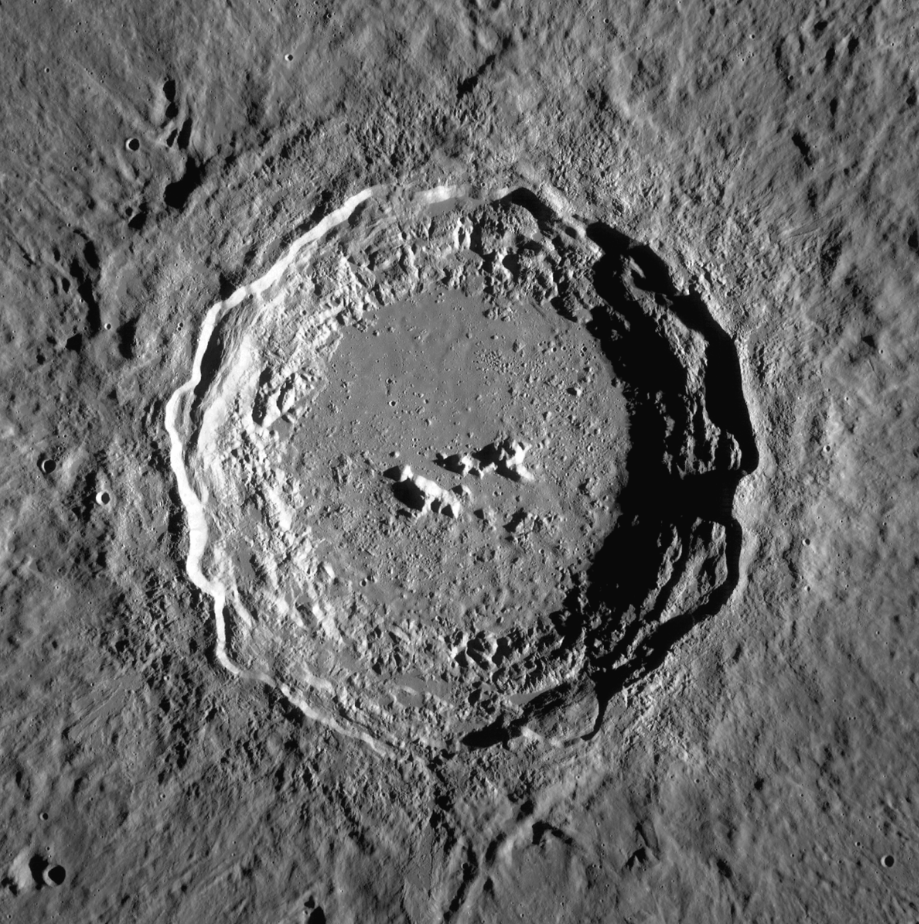crater: (92, 160, 852, 815)
